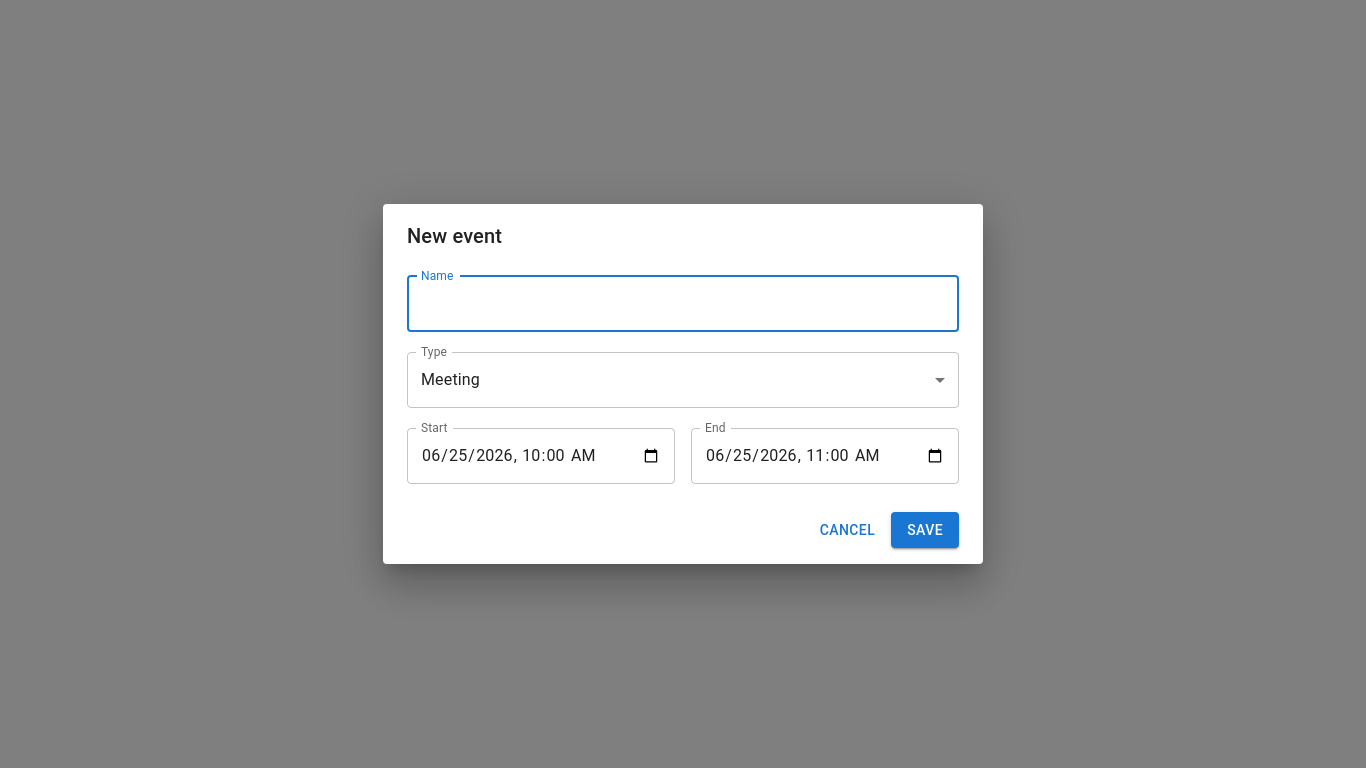
it: EventDialog › stays open and explains when saving fails
Type "Fire drill" into the field labelled "Name" at (683, 304), box x1=407 y1=276 x2=959 y2=332
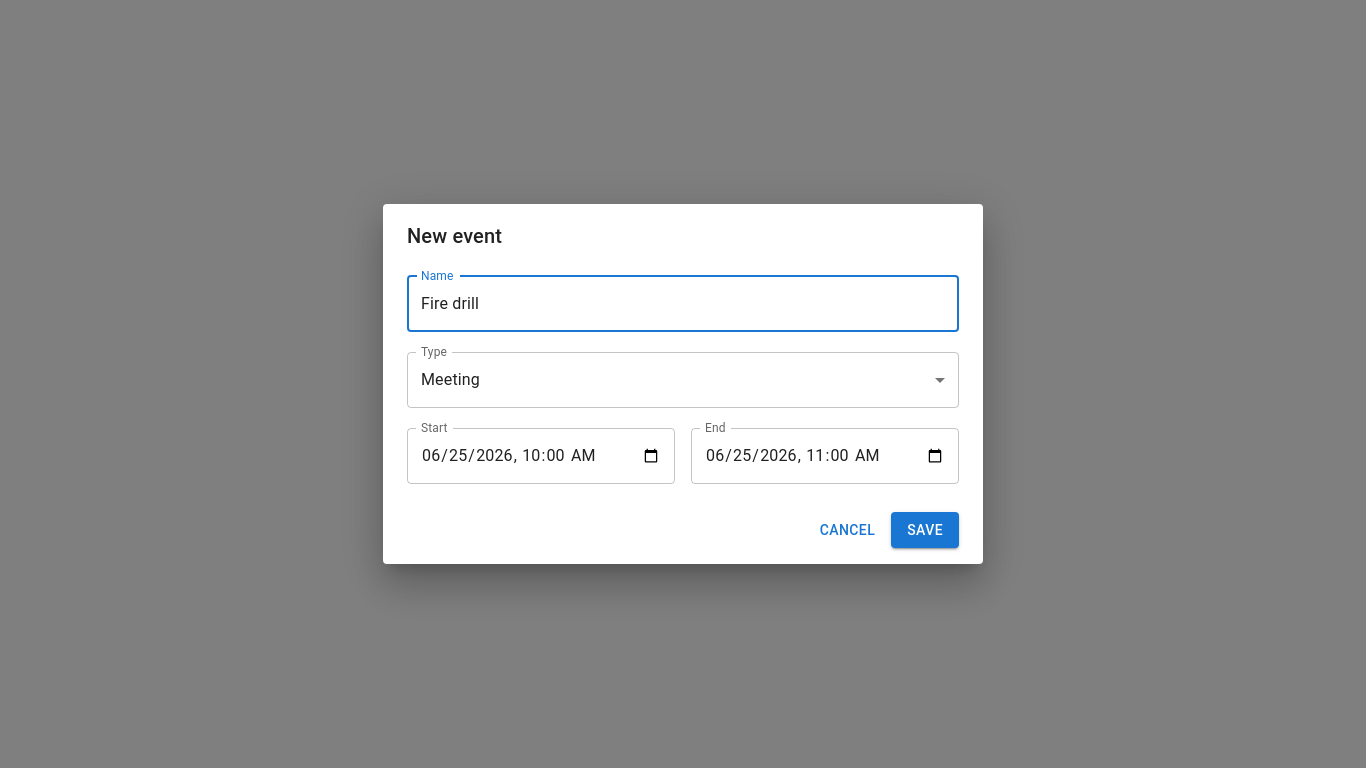
Click the button "Save" at (925, 530), box x1=891 y1=512 x2=959 y2=548
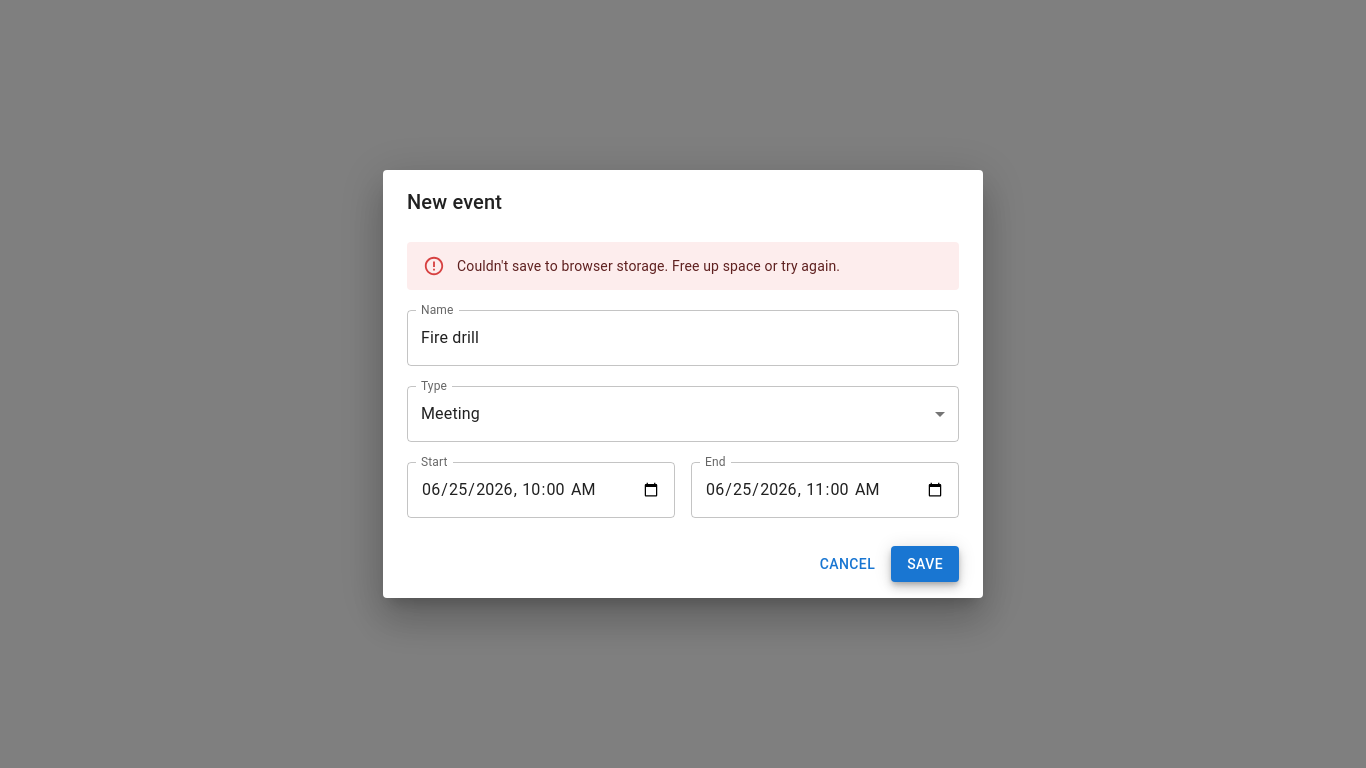
Expected: the message reads "Couldn't save to browser storage. Free up space or try again.", x1=457 y1=258 x2=840 y2=274
